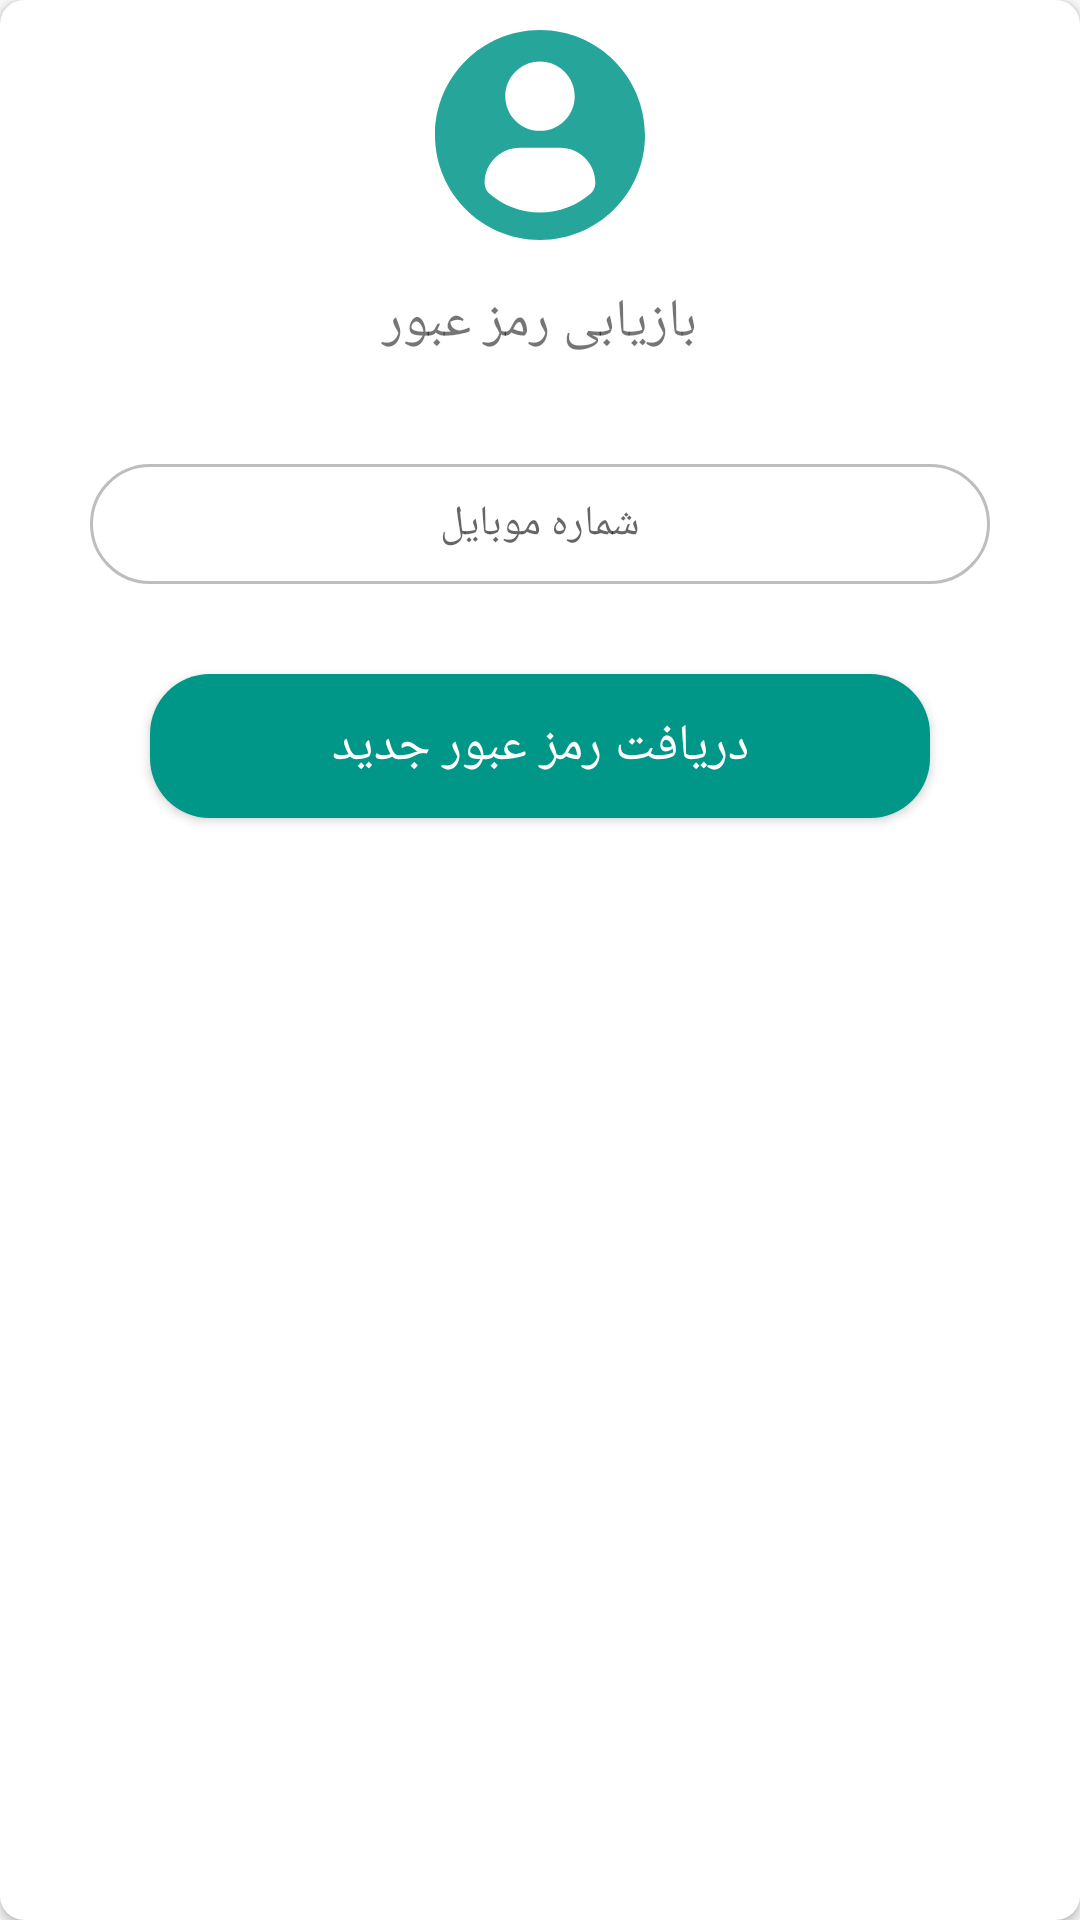

Where icons sit on this 1080x1920 app screen, as (x1, y1, x2, y2):
profile user: (435, 30, 645, 240)
